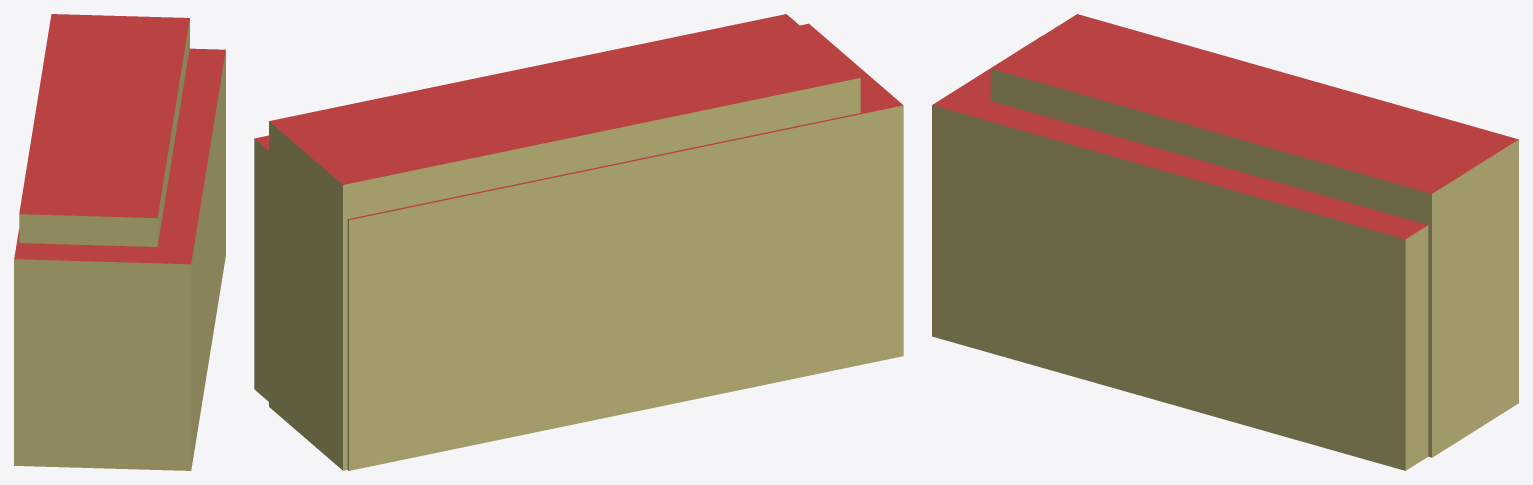
3 views of the same model, side by side, from view 1: azimuth 30°, elevation 25°; view 2: azimuth 150°, elevation 25°; view 3: azimuth 270°, elevation 25° (orthographic). The views are drawn at different scales.
Visible parts, largest first — view 1: group_7, group_3, group_6, group_4; view 2: group_7, group_3, group_4, group_6; view 3: group_7, group_4, group_3, group_6.
Boxes of the visible parts, x1,y1,x2,y2 form: group_7: (14, 50, 225, 470); group_3: (19, 14, 189, 218); group_6: (14, 48, 225, 264); group_4: (19, 18, 189, 246); group_7: (254, 105, 903, 470); group_3: (269, 14, 859, 184); group_4: (269, 78, 860, 470); group_6: (254, 23, 902, 219); group_7: (932, 105, 1428, 470); group_4: (990, 68, 1518, 457); group_3: (991, 14, 1518, 193); group_6: (932, 35, 1427, 239).
Bounding box in the file's own units: 32.39 × 39.33 × 19.52.
